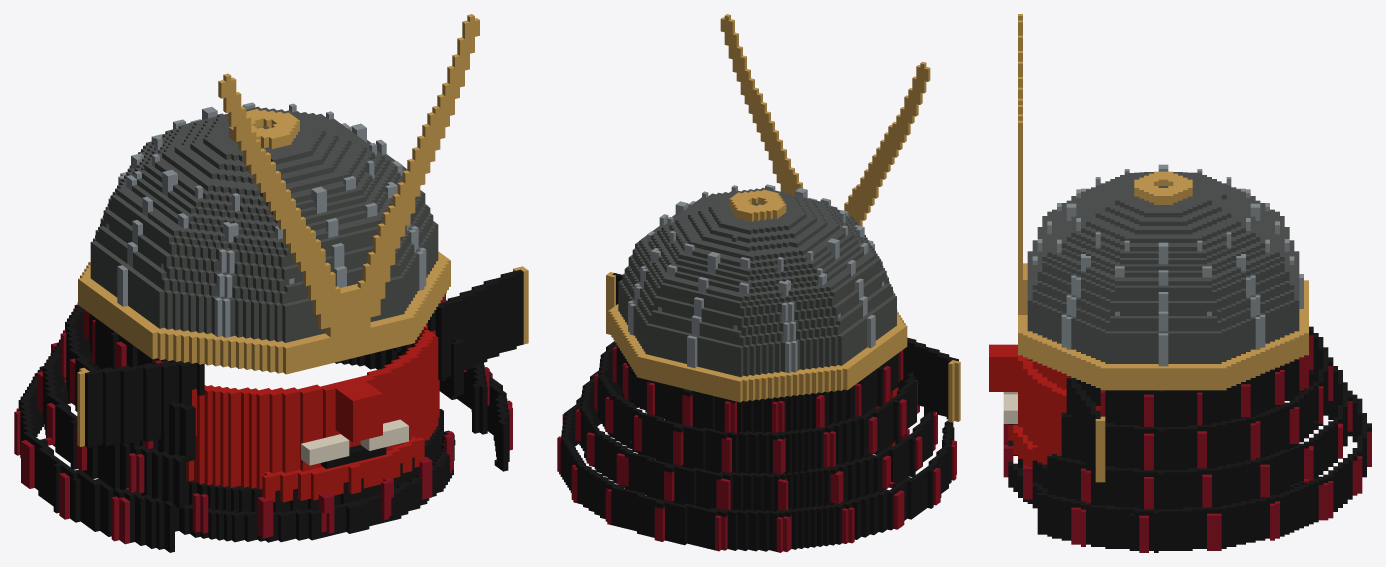
The model's file is helmet_kabuto.glb.
The picture shows the model from 3 angles, left to right: view 1: azimuth 30°, elevation 25°; view 2: azimuth 150°, elevation 25°; view 3: azimuth 270°, elevation 25°; orthographic projection. The views are drawn at different scales.
Visible parts, largest first — view 1: helmet_kabuto:compound; view 2: helmet_kabuto:compound; view 3: helmet_kabuto:compound.
Part boxes in pixels (box(x1,y1,x2,y2)): helmet_kabuto:compound: box(14, 14, 528, 552); helmet_kabuto:compound: box(557, 14, 960, 552); helmet_kabuto:compound: box(989, 14, 1371, 552).
Bounding box in the file's own units: 0.356 × 0.368 × 0.316.
